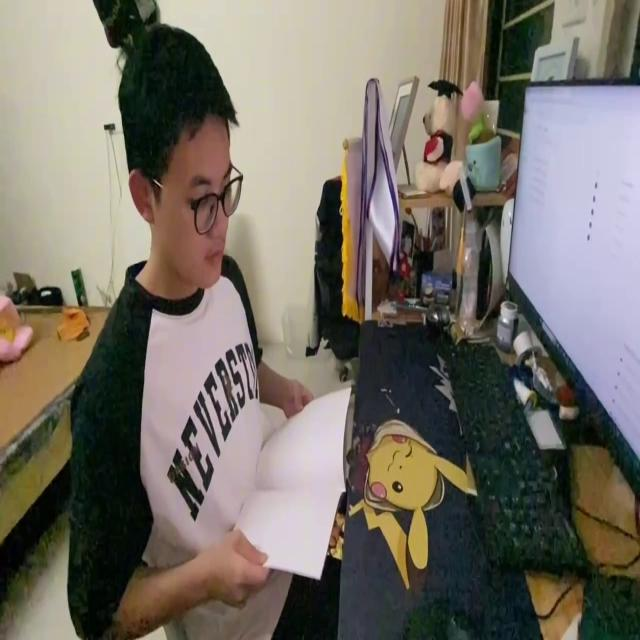book: (231, 382, 348, 584)
laptop: (505, 70, 640, 496)
student: (63, 19, 324, 640)
